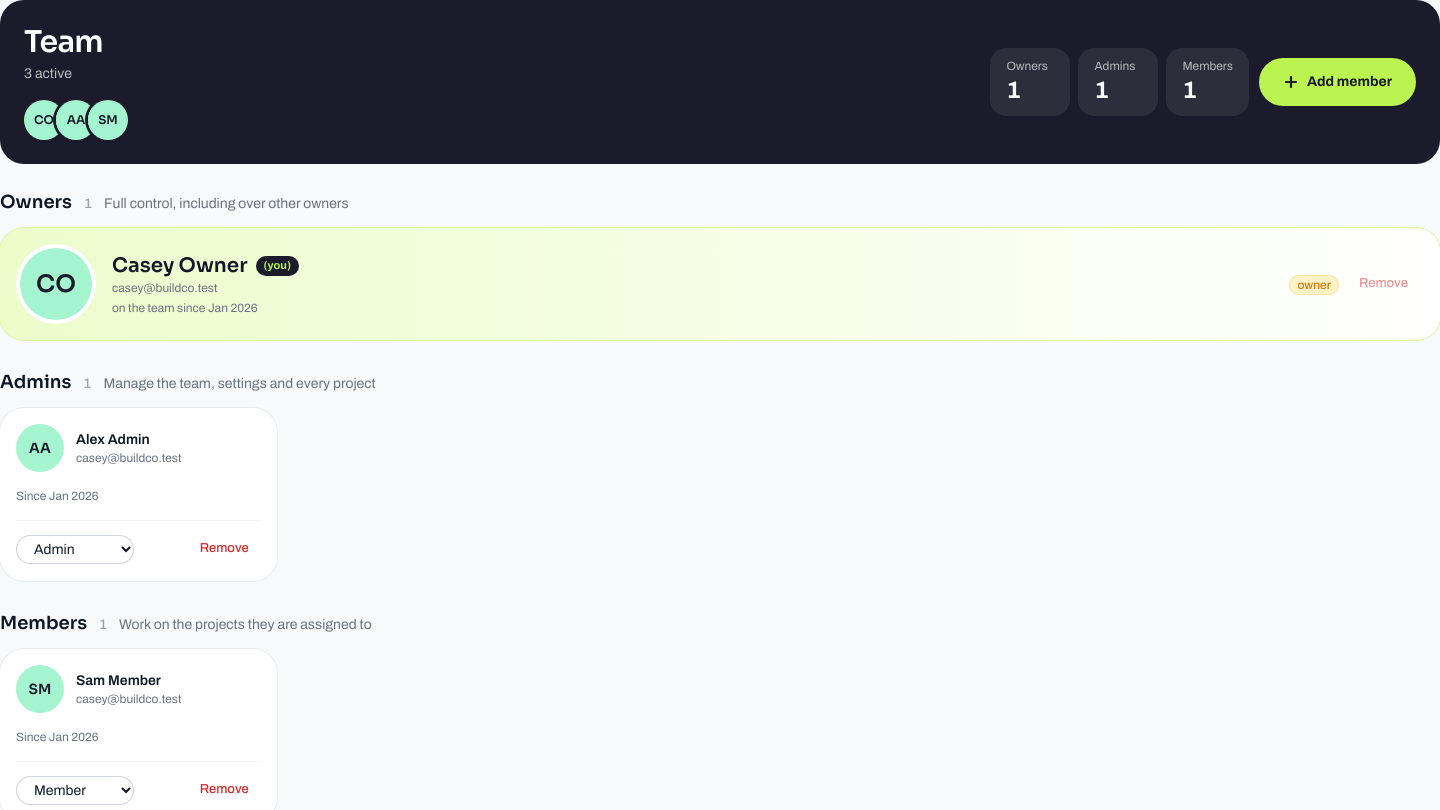
it: TeamPage › adding a member › keeps the form open and shows why when the address is already on the team
This screenshot has width=1440, height=810.
Click the button "Add member": click(1338, 82) [1259,58,1416,106]
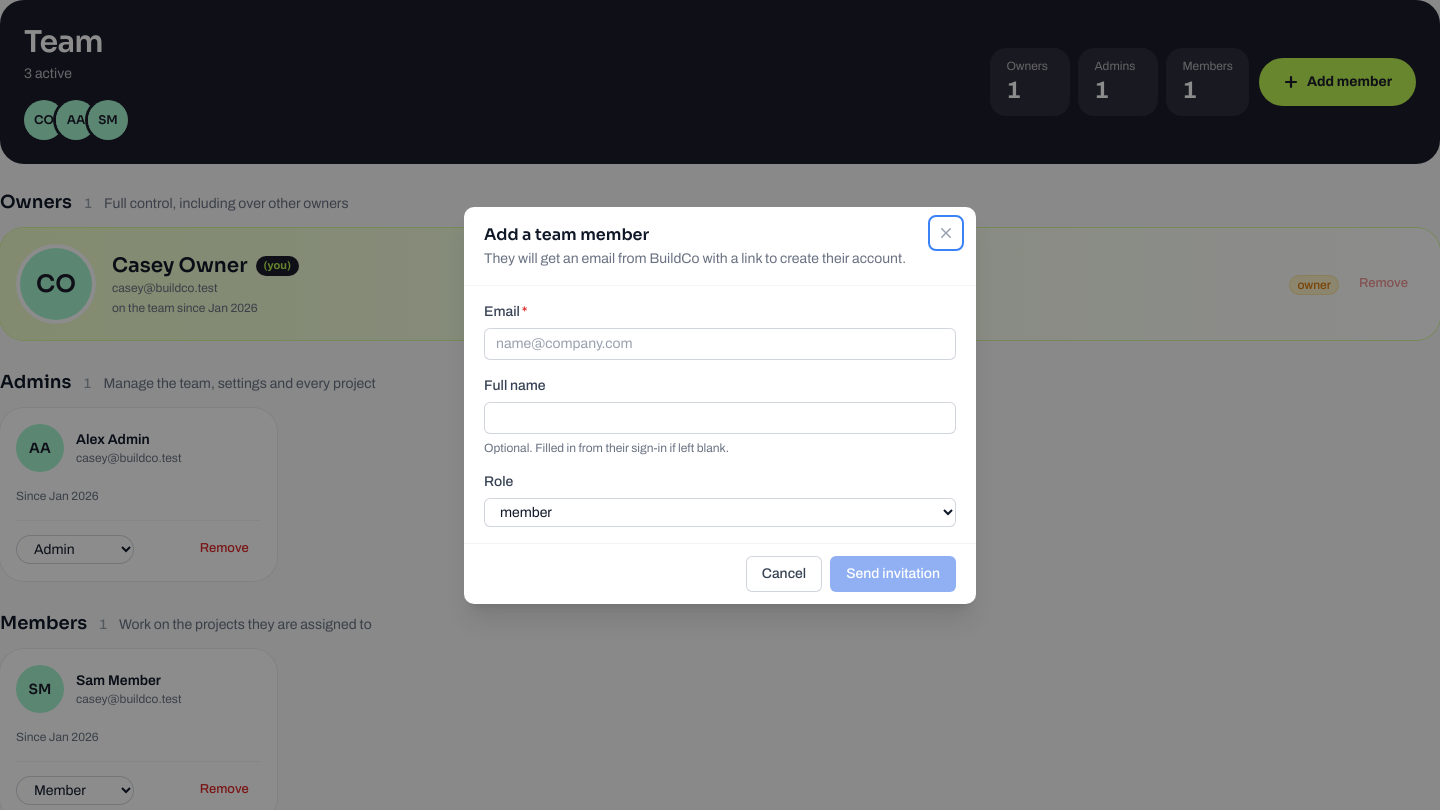
In the field labelled "Email*": (720, 344) [484,328,956,360], type "new.hire@buildco.com"
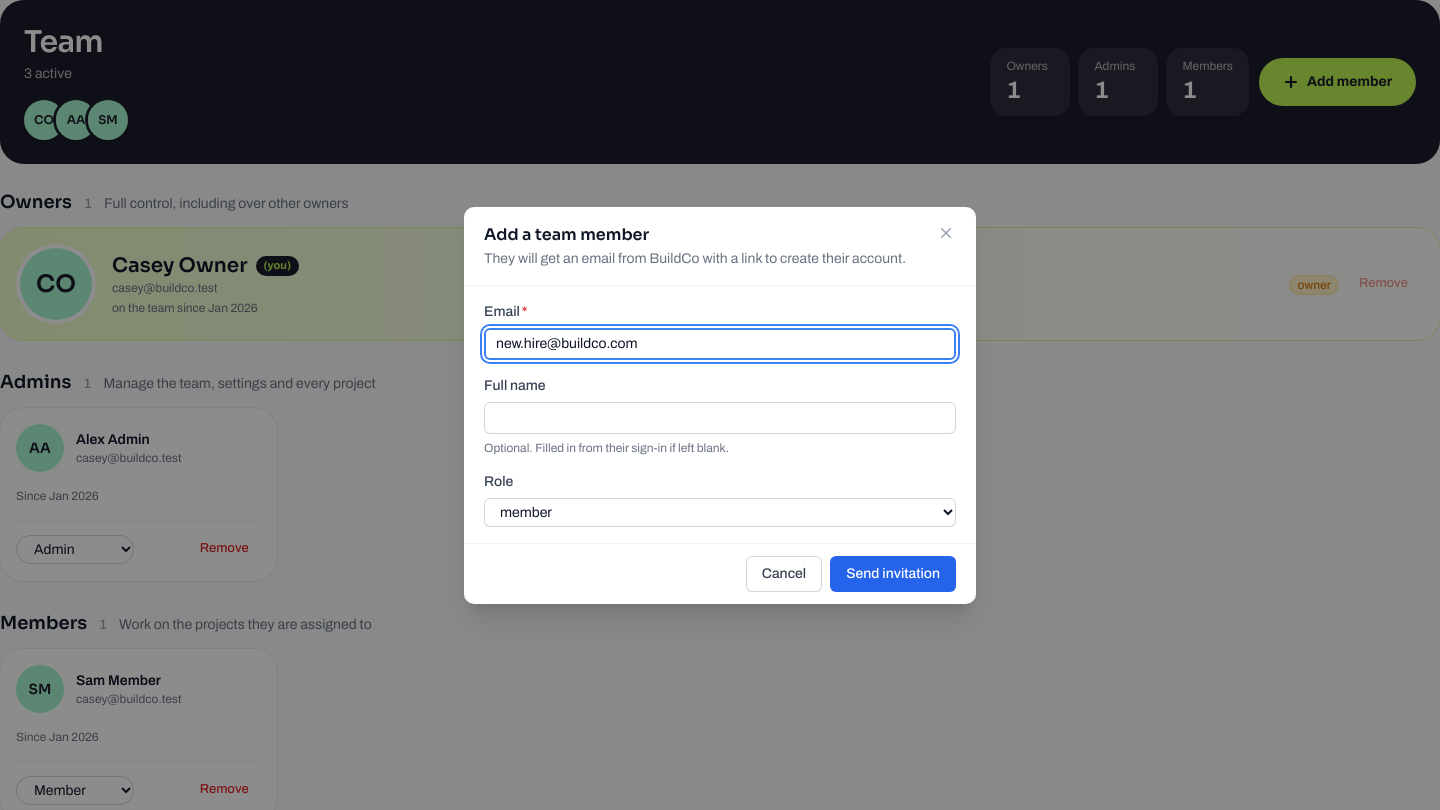
Click the button "Send invitation": click(893, 574) [830,556,956,592]
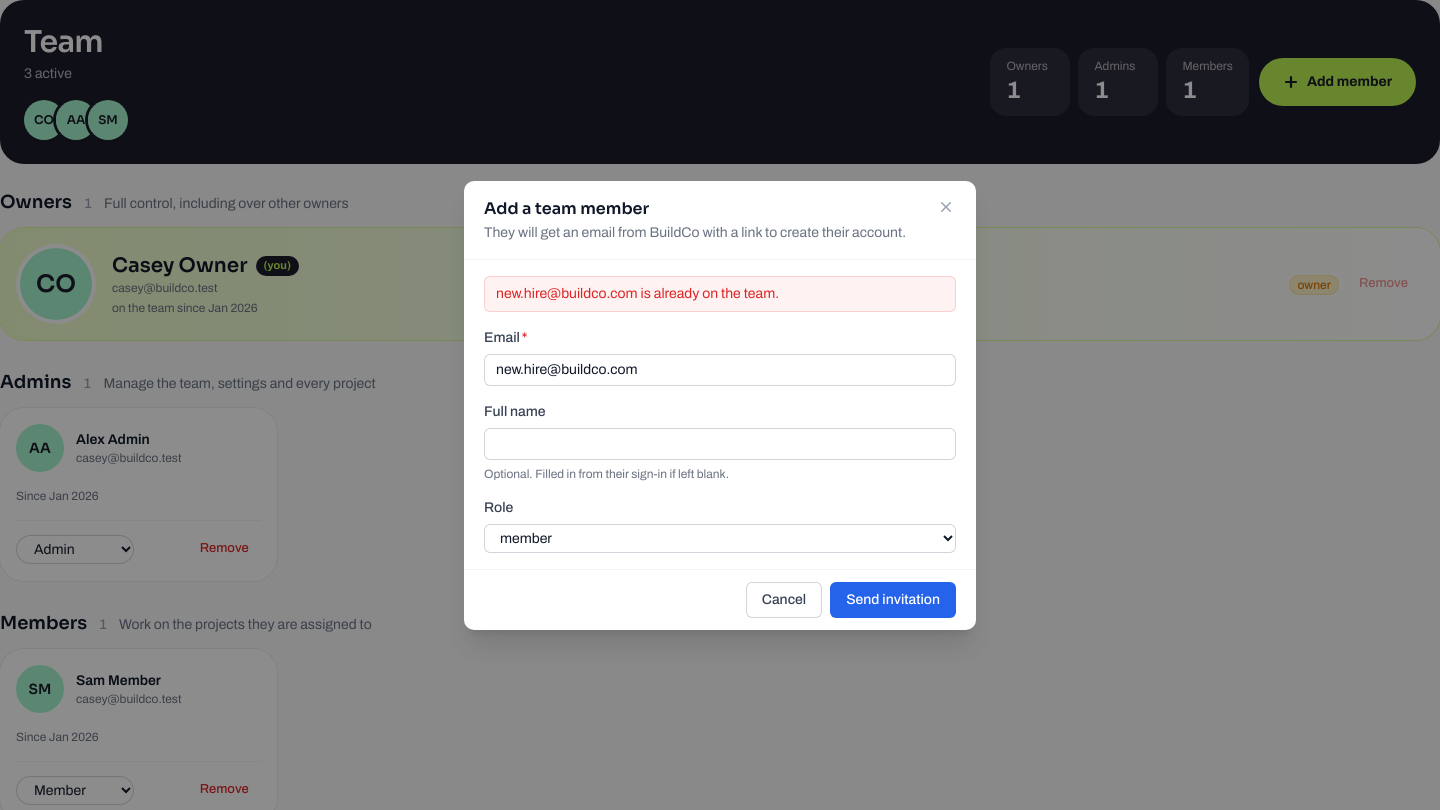
Check: the text "new.hire@buildco.com is already on the team." is shown, box [484,276,956,312]
